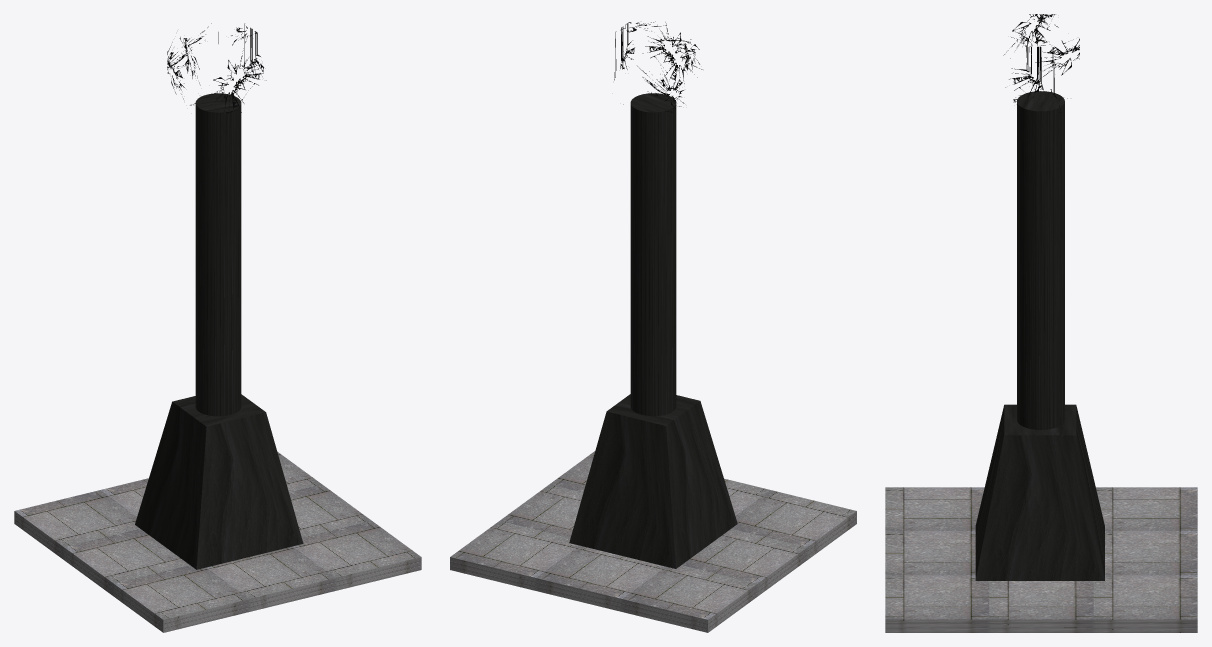
Rendered from poste_luz3.obj.
3 renders of one model, left to right at view 1: azimuth 30°, elevation 25°; view 2: azimuth 150°, elevation 25°; view 3: azimuth 270°, elevation 25°, orthographic. The views are drawn at different scales.
Parts seen in each view (by area): view 1: Cube; view 2: Cube; view 3: Cube.
Part boxes in pixels (<box>): Cube: <box>14,23,421,632</box>; Cube: <box>450,21,856,632</box>; Cube: <box>885,14,1197,632</box>.
Bounding box in the file's own units: 8 × 15.16 × 8.
Materials: 3 (3 with a texture image).
